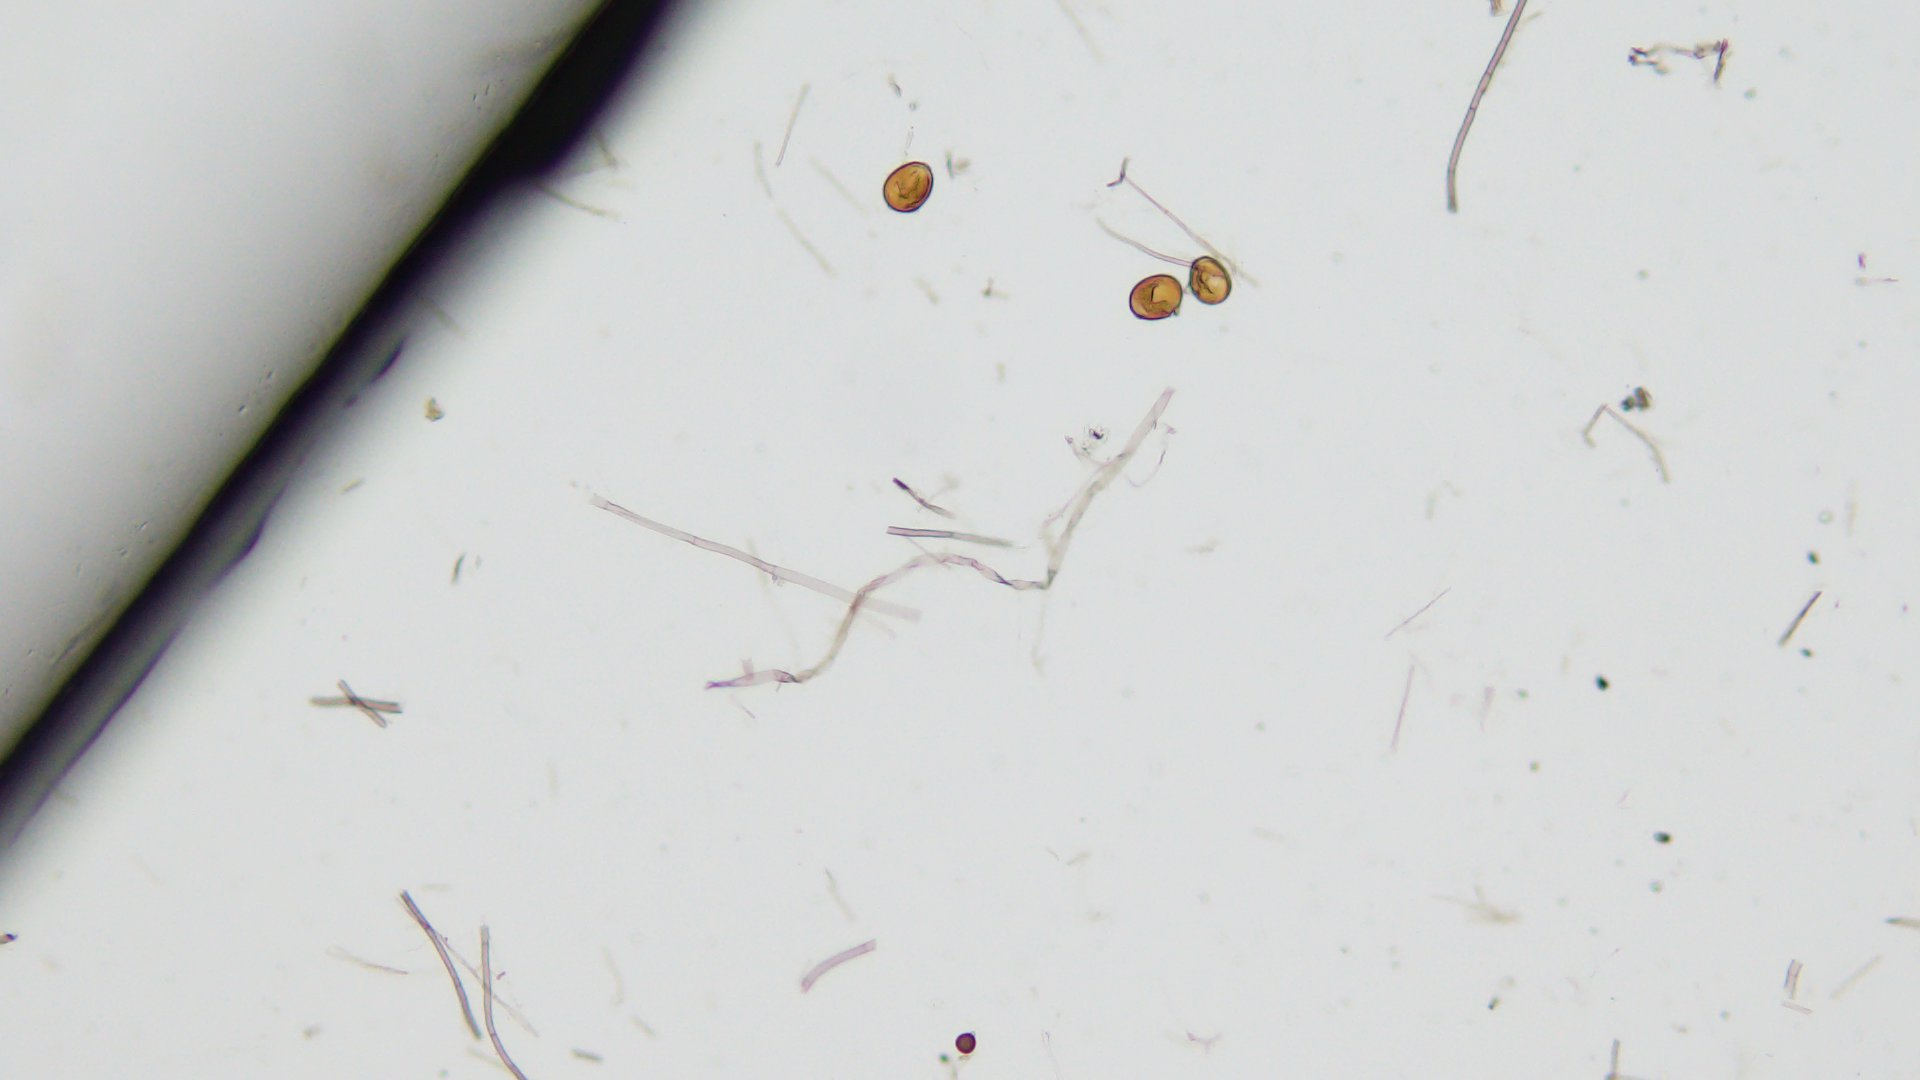shs_spore: (953, 1033, 975, 1054)
xb_spore: (884, 161, 935, 214), (1129, 274, 1182, 320), (1189, 255, 1234, 307)
